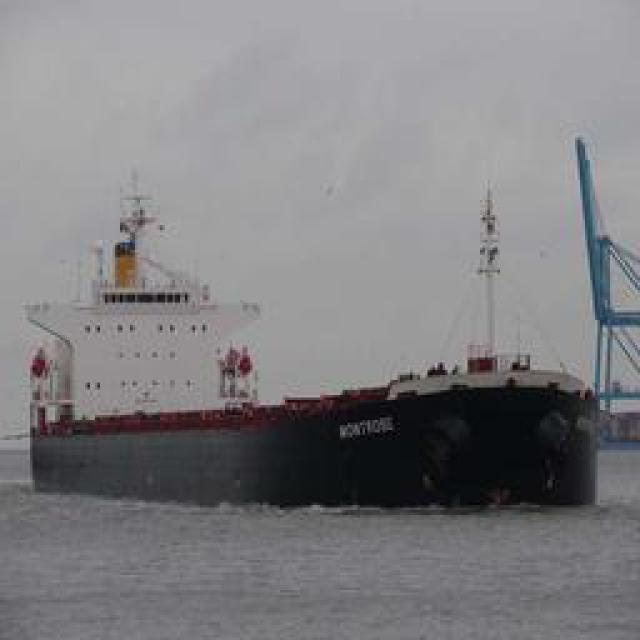Ship: (21, 191, 616, 506)
